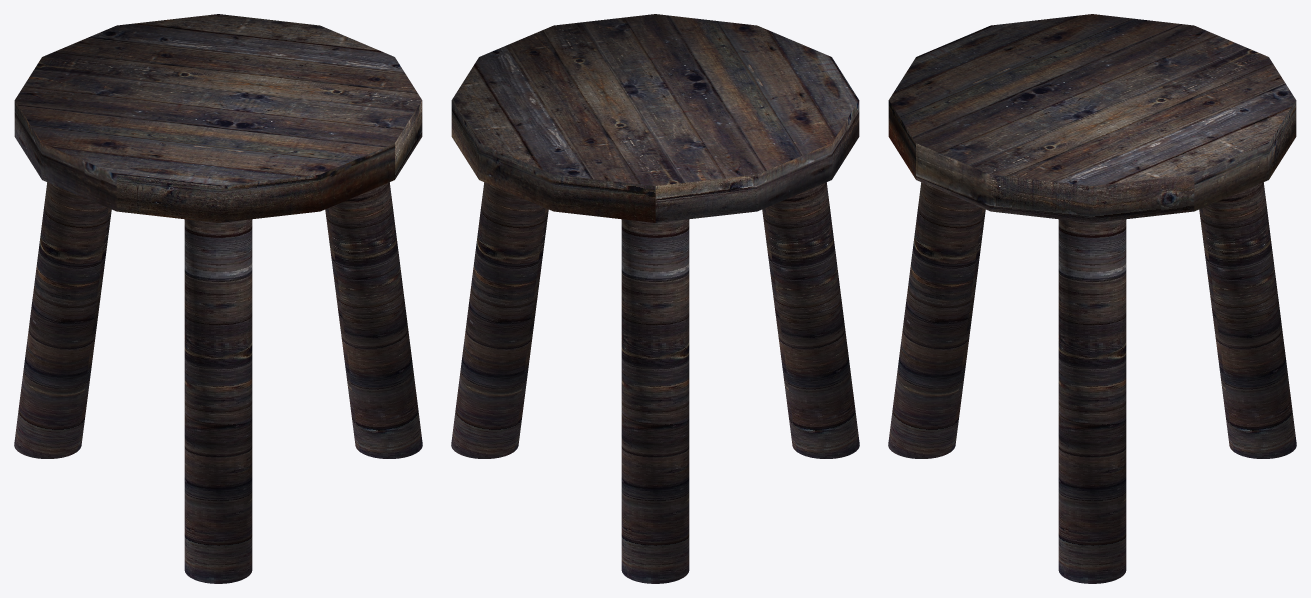
The model's file is Stool.glb.
The picture shows the model from 3 angles, left to right: view 1: azimuth 30°, elevation 25°; view 2: azimuth 150°, elevation 25°; view 3: azimuth 270°, elevation 25°; orthographic projection.
Parts seen in each view (by area): view 1: Stool; view 2: Stool; view 3: Stool.
Boxes of the visible parts, bbox=[...] form: Stool: bbox=[14, 14, 422, 583]; Stool: bbox=[451, 14, 859, 583]; Stool: bbox=[888, 14, 1296, 583].
Size of the model in its own units: 0.4107 by 0.403 by 0.3863.
Materials: 1 (1 with a texture image).
